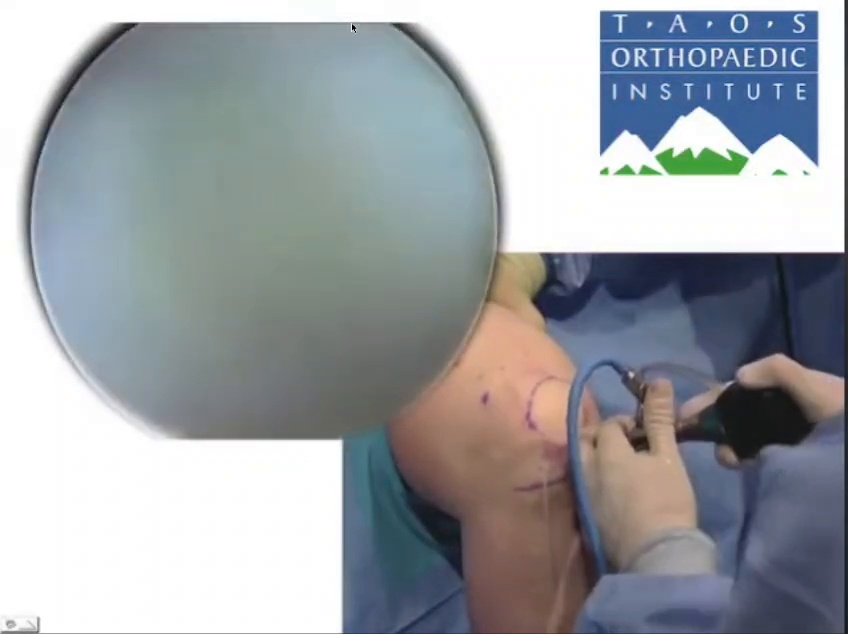arthroscope: (515, 294, 745, 622)
probe: (727, 345, 848, 600), (198, 429, 337, 458)
